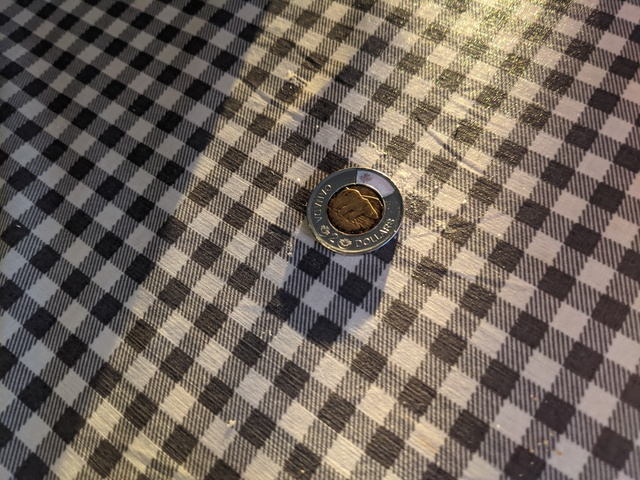twonie: (291, 156, 414, 260)
